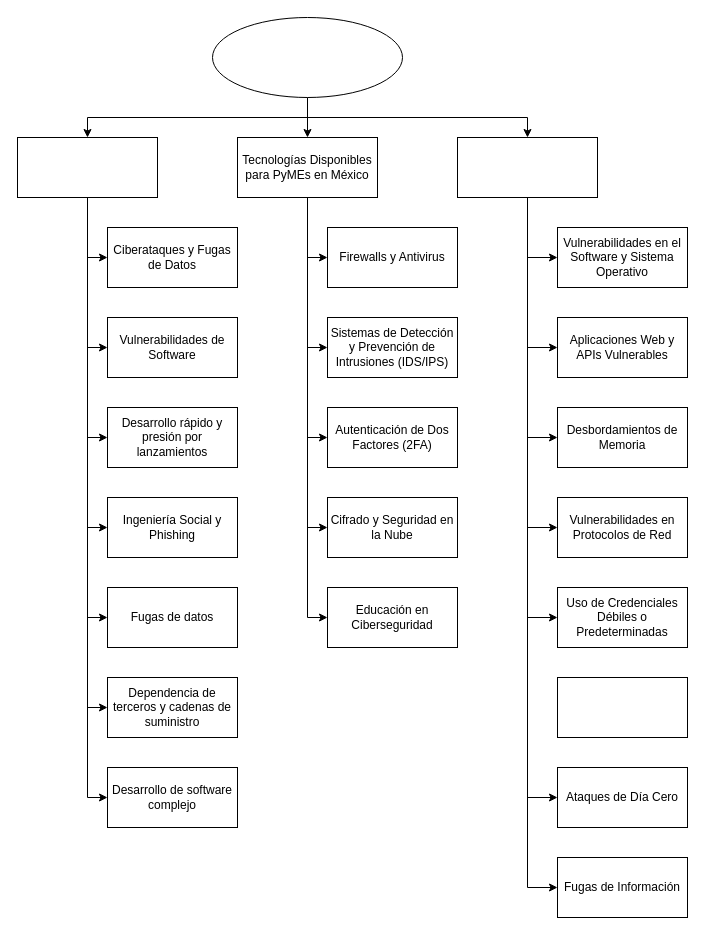
The diagram is 705 pixels wide and 935 high, and some of its shapes have lost their labels. The centre of each missing label's shape, as x and y in pixels:
"Puertas Traseras (Backdoors)" belongs at point (622, 707).
"Riesgos de Seguridad en Desarrollo de Software" belongs at point (307, 57).
"Riesgos de Seguridad en el Desarrollo de Software" belongs at point (87, 167).
"Áreas de Fallas de Software Explotables por un Gobierno Enemigo" belongs at point (527, 167).
